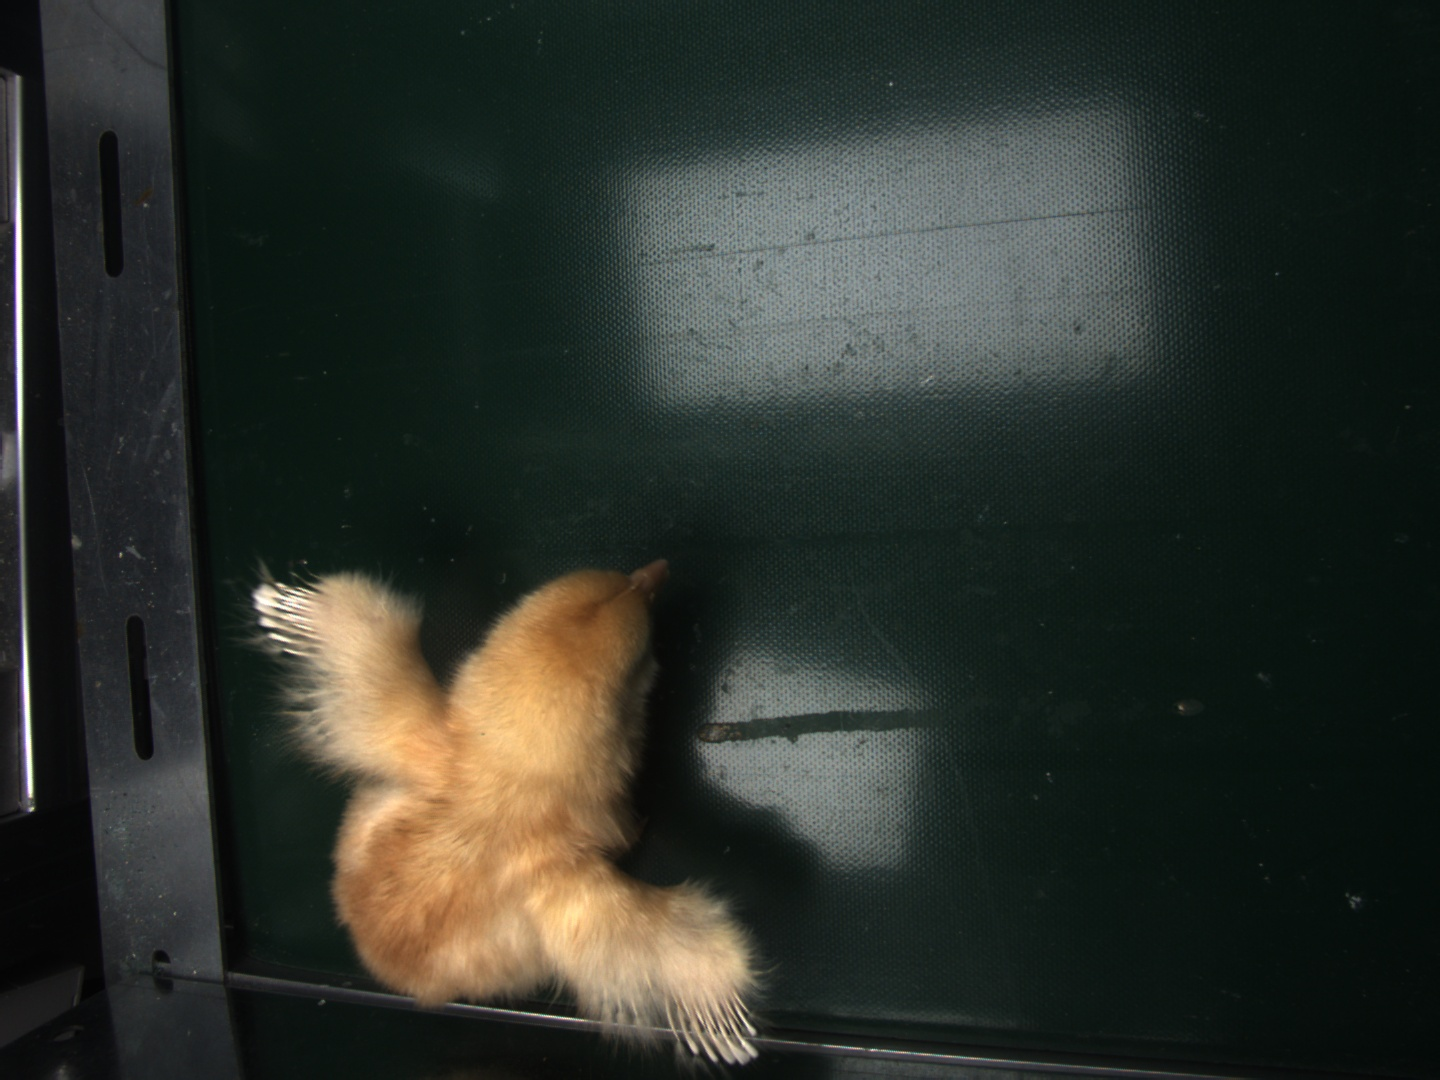female: (256, 569, 327, 653), (672, 996, 759, 1063)
